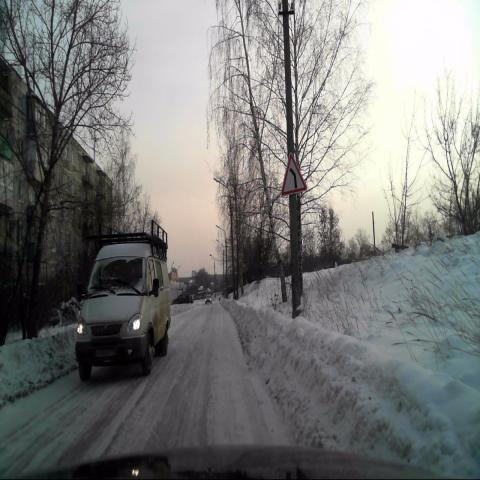1_11_1: (281, 152, 307, 196)
